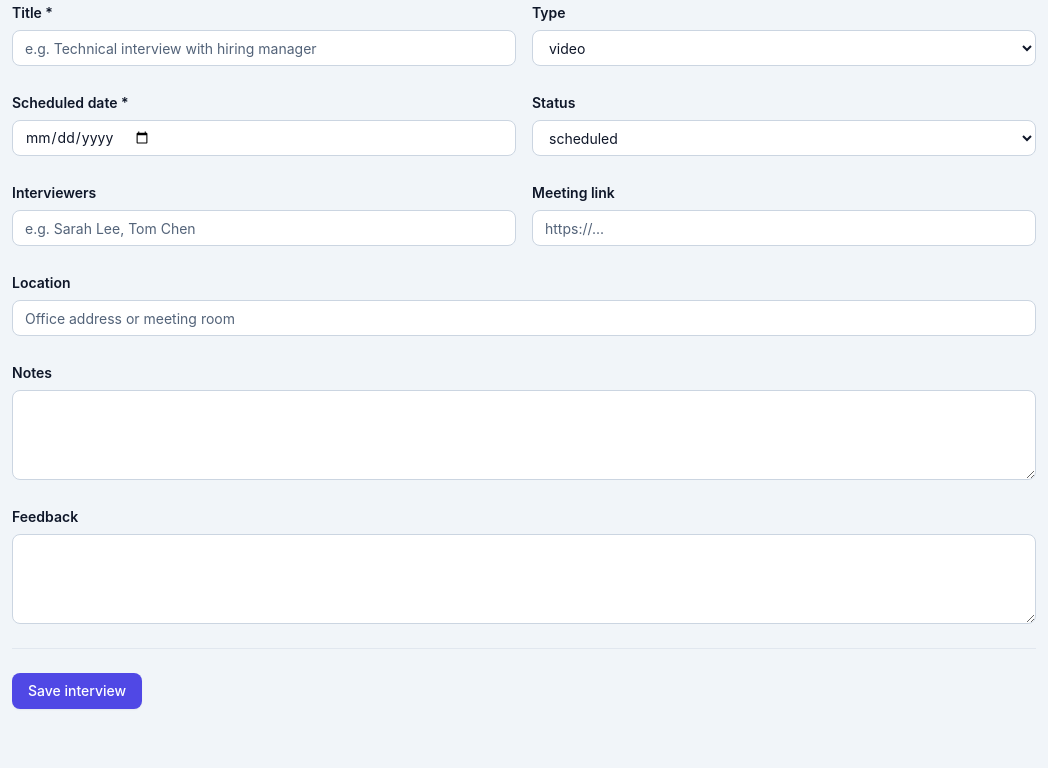
Test: InterviewForm › validates required fields on empty submit
Click the button "Save interview".
click(77, 691)  # box [12, 673, 142, 709]
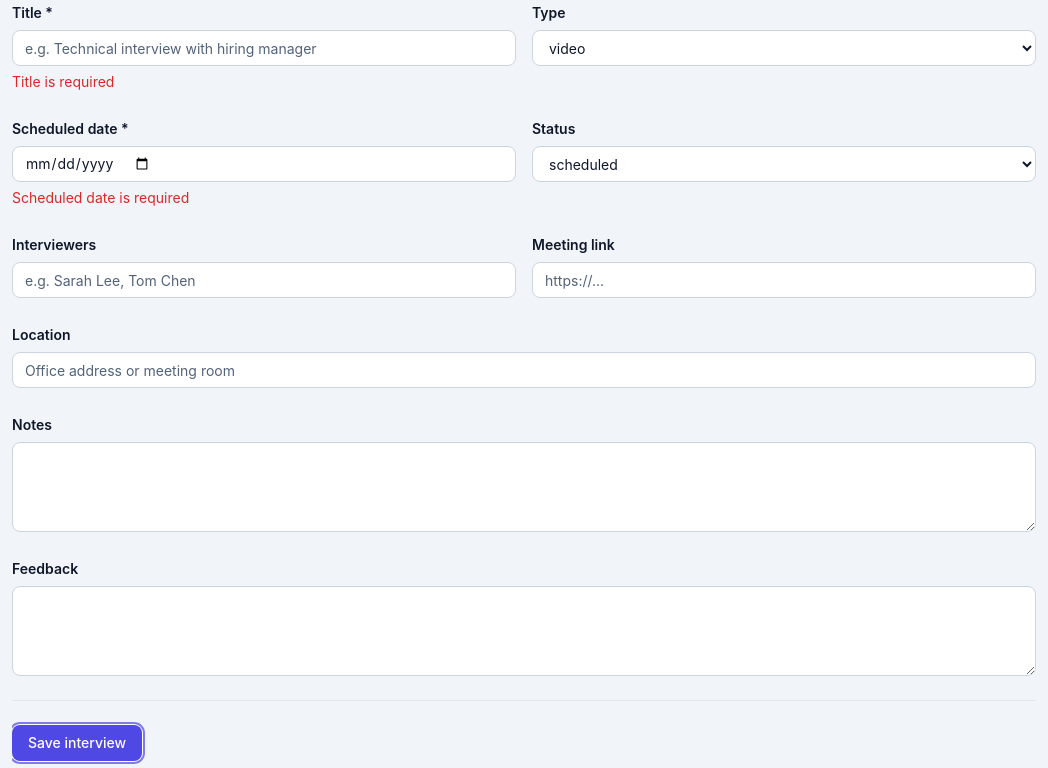
Check: the text "Title is required" is shown, box [12, 73, 114, 90]
Check: the text "Scheduled date is required" is shown, box [12, 189, 189, 206]
